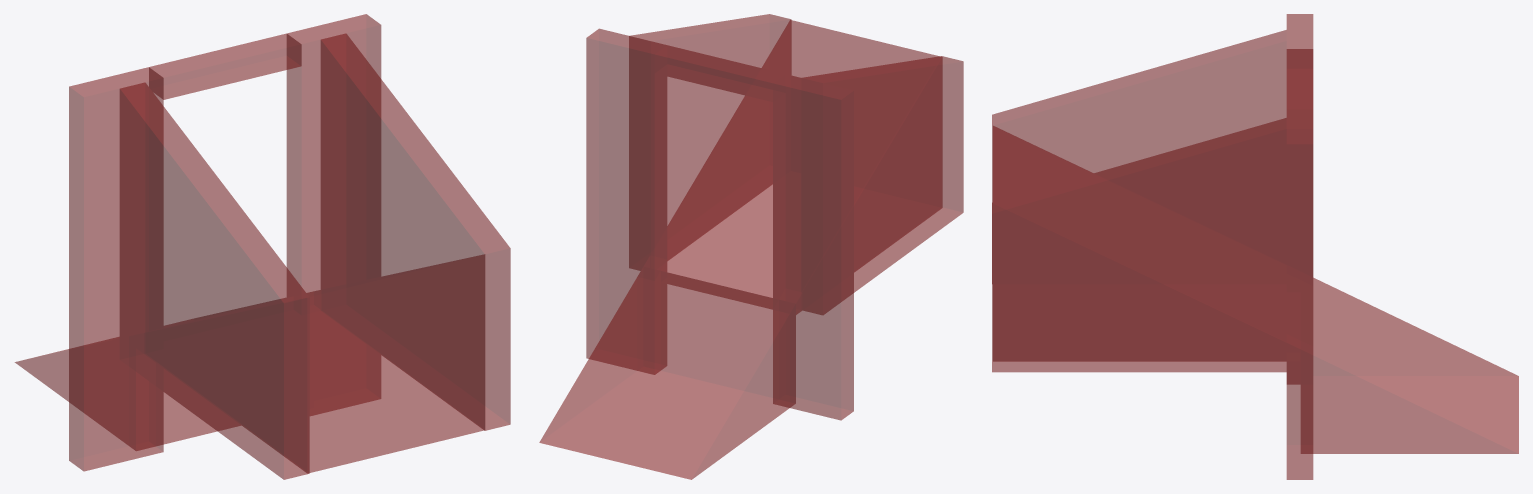
The model's file is SM_Bld_Basement_Entrance_01_Collision.fbx.
3 views of the same model, side by side, from view 1: azimuth 30°, elevation 25°; view 2: azimuth 150°, elevation 25°; view 3: azimuth 270°, elevation 25° (orthographic). The views are drawn at different scales.
Parts seen in each view (by area): view 1: SM_Bld_Basement_Entrance_01_Collision; view 2: SM_Bld_Basement_Entrance_01_Collision; view 3: SM_Bld_Basement_Entrance_01_Collision.
Boxes of the visible parts, bbox=[...] form: SM_Bld_Basement_Entrance_01_Collision: bbox=[15, 14, 510, 479]; SM_Bld_Basement_Entrance_01_Collision: bbox=[539, 14, 963, 479]; SM_Bld_Basement_Entrance_01_Collision: bbox=[992, 14, 1518, 479].
Size of the model in its own units: 250 by 301 by 428.
